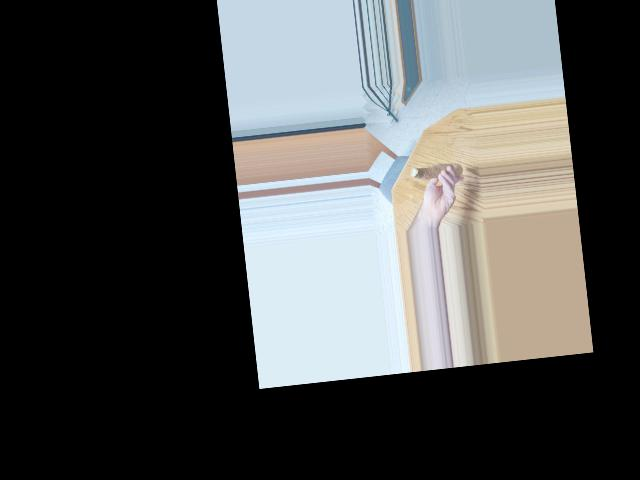sweet_potato: (413, 157, 460, 184)
